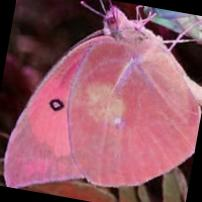butterfly: (3, 6, 202, 190)
